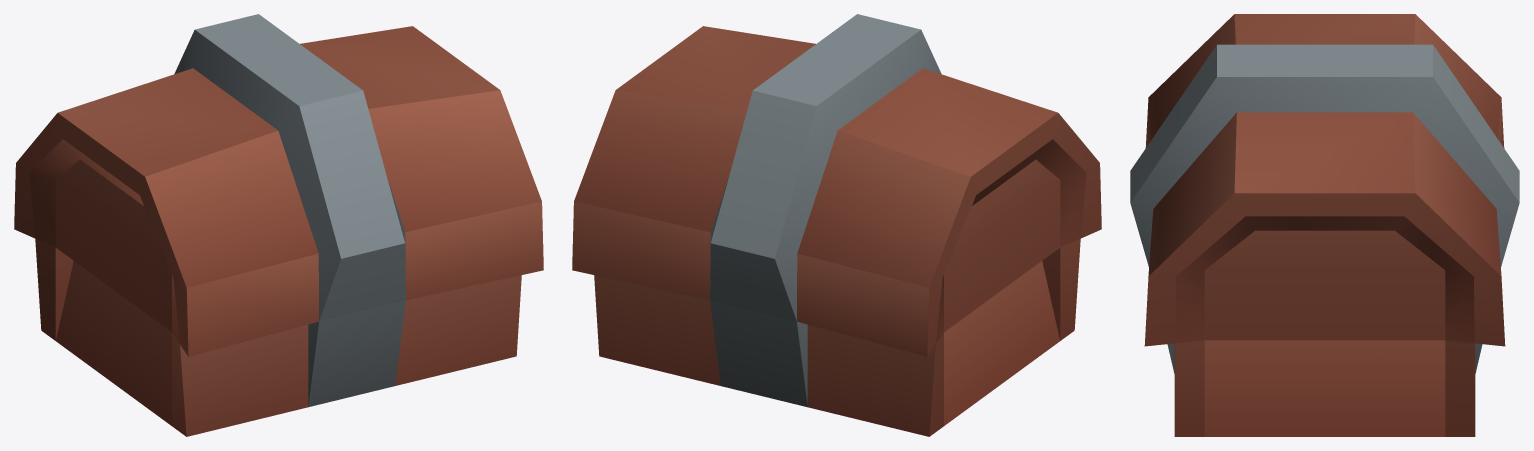
File: d_trunk_medium_A.glb
3 renders of one model, left to right at view 1: azimuth 30°, elevation 25°; view 2: azimuth 150°, elevation 25°; view 3: azimuth 270°, elevation 25°, orthographic. The views are drawn at different scales.
Visible parts, largest first — view 1: trunk_medium_A; view 2: trunk_medium_A; view 3: trunk_medium_A.
Boxes of the visible parts, <box> form: trunk_medium_A: <box>14,14,543,436</box>; trunk_medium_A: <box>572,14,1101,436</box>; trunk_medium_A: <box>1130,14,1519,436</box>.
Bounding box in the file's own units: 0.953 × 0.7265 × 0.8751.
1 material, 1 textured.
